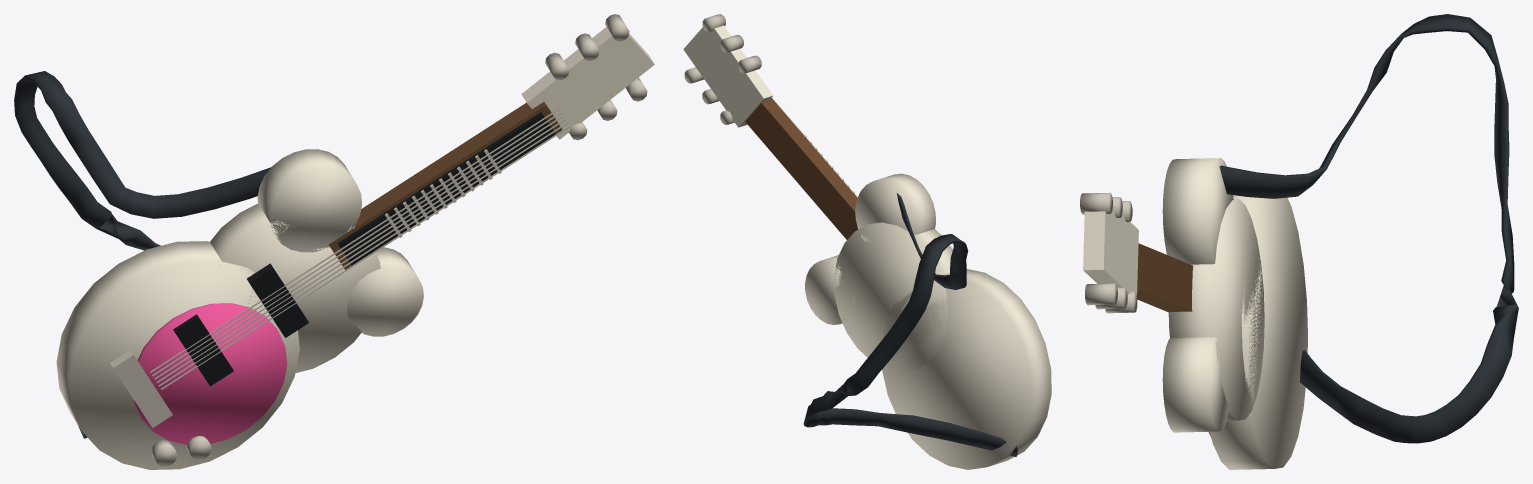
File: noodle-guitar-v2.glb
3 views of the same model, side by side, from view 1: azimuth 30°, elevation 25°; view 2: azimuth 150°, elevation 25°; view 3: azimuth 270°, elevation 25° (orthographic). The views are drawn at different scales.
Visible parts, largest first — view 1: noodle-guitar; view 2: noodle-guitar; view 3: noodle-guitar.
Part boxes in pixels (x1,y1,x2,y2): noodle-guitar: (14,14,654,469); noodle-guitar: (683,14,1051,469); noodle-guitar: (1080,14,1518,469).
Size of the model in its own units: 0.7329 by 0.5506 by 0.4536.
